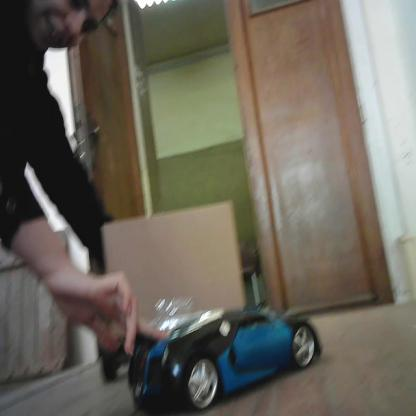LeadTruck: (100, 201, 248, 385)
